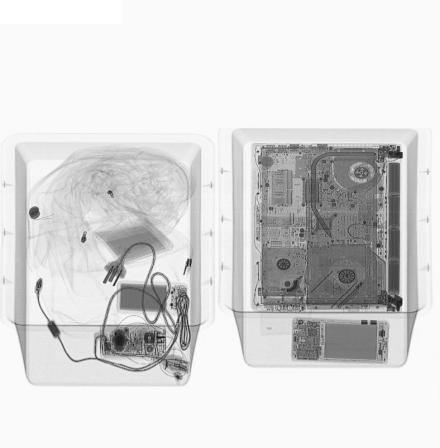Powerbank: (291, 319, 389, 362), (115, 283, 187, 314)
